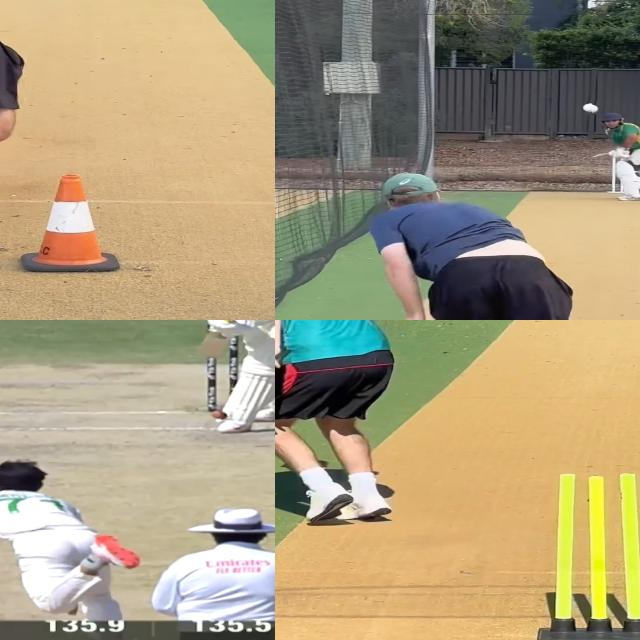Cricket ball: (580, 100, 602, 114), (209, 410, 229, 420)
Stumps: (547, 469, 640, 640)
